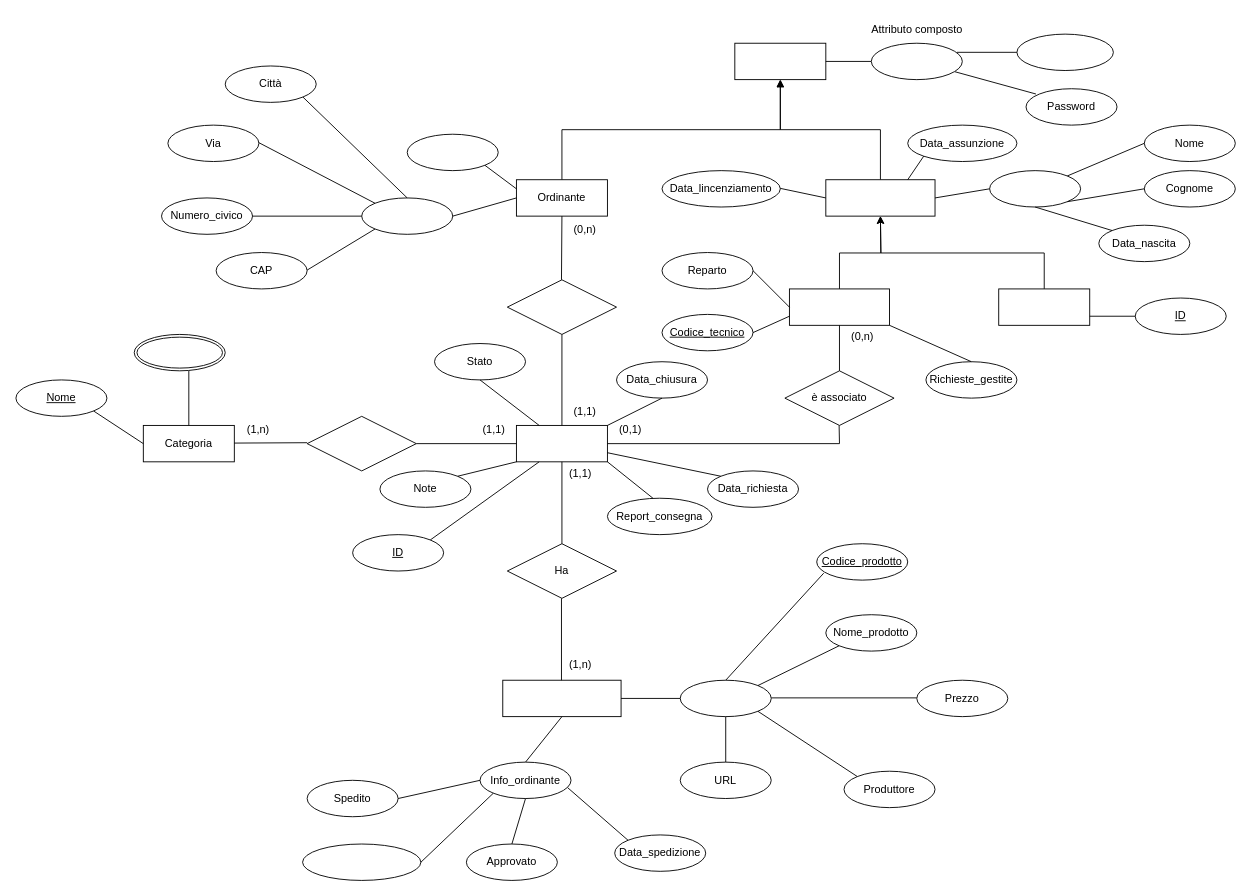
This 1251x896 diagram has some shape labels left out. Each missing label, with the centre of its shape:
"Acquisto" belongs at pixel 561 443.
"Amministratore" belongs at pixel 1044 306.
"Anagrafica" belongs at pixel 1035 188.
"Associata" belongs at pixel 361 443.
"Caratteristiche" belongs at pixel 179 352.
"CF" belongs at pixel 452 152.
"Credenziali" belongs at pixel 916 61.
"Descrizione" belongs at pixel 725 698.
"Effettua" belongs at pixel 561 306.
"Email" belongs at pixel 1064 52.
"Indirizzo" belongs at pixel 407 215.
"Motivazione_rifiuto" belongs at pixel 361 861.
"Personale_tecnico" belongs at pixel 880 197.
"Prodotto_candidato" belongs at pixel 561 698.
"Tecnico_incaricato" belongs at pixel 839 306.
"Utenza" belongs at pixel 780 61.
